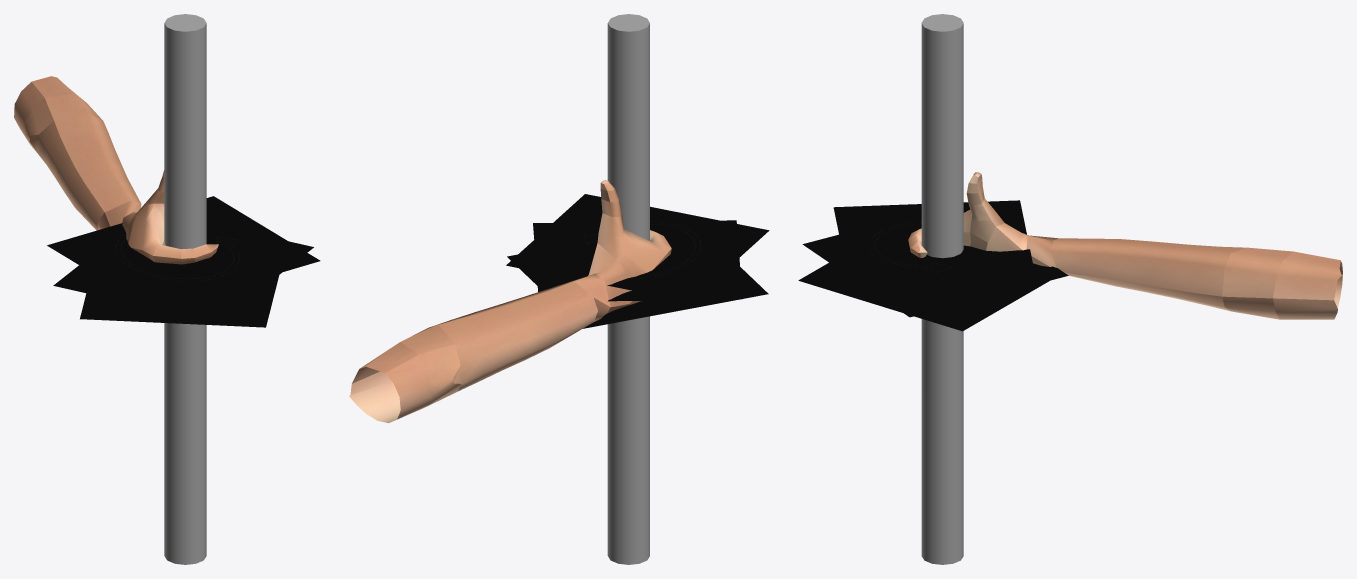
The model's file is RHR.fbx.
3 views of the same model, side by side, from view 1: azimuth 30°, elevation 25°; view 2: azimuth 150°, elevation 25°; view 3: azimuth 270°, elevation 25° (orthographic).
Visible parts, largest first — view 1: Iron_rod, Hand, Rotation_plane2, Rotation_plane1, Rotation_plane; view 2: Hand, Iron_rod, Rotation_plane2, Rotation_plane1, Rotation_plane; view 3: Iron_rod, Hand, Rotation_plane2, Rotation_plane1, Rotation_plane.
Part boxes in pixels (left/top/right/bottom): Iron_rod: left=164, top=14, right=206, bottom=564; Hand: left=14, top=76, right=218, bottom=264; Rotation_plane2: left=47, top=196, right=320, bottom=309; Rotation_plane1: left=53, top=241, right=313, bottom=322; Rotation_plane: left=80, top=275, right=279, bottom=327; Hand: left=349, top=180, right=671, bottom=423; Iron_rod: left=607, top=14, right=649, bottom=564; Rotation_plane2: left=506, top=194, right=769, bottom=301; Rotation_plane1: left=533, top=220, right=742, bottom=301; Rotation_plane: left=507, top=254, right=768, bottom=328; Iron_rod: left=921, top=14, right=963, bottom=564; Hand: left=908, top=172, right=1342, bottom=319; Rotation_plane2: left=833, top=200, right=1037, bottom=292; Rotation_plane1: left=802, top=234, right=1068, bottom=317; Rotation_plane: left=798, top=263, right=1049, bottom=331.
Size of the model in its own units: 26.14 by 56.55 by 52.38.
Materials: 3 (2 with a texture image).
